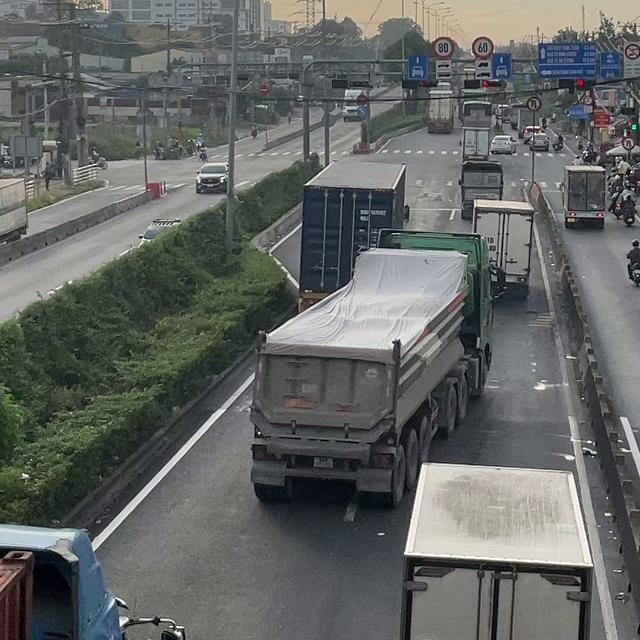car: (138, 218, 181, 246), (195, 162, 229, 193), (490, 134, 517, 154), (528, 133, 548, 150), (521, 125, 542, 141)
motorcycle: (625, 254, 639, 287), (621, 199, 636, 226), (198, 146, 207, 161)
truck: (249, 228, 494, 507), (399, 461, 594, 639), (0, 522, 186, 639), (298, 159, 409, 313), (472, 198, 536, 298), (562, 164, 606, 230), (458, 159, 504, 220), (0, 176, 28, 246), (427, 89, 454, 133), (460, 125, 491, 161), (341, 87, 368, 121), (459, 99, 492, 126), (518, 108, 540, 132), (509, 103, 528, 129)
